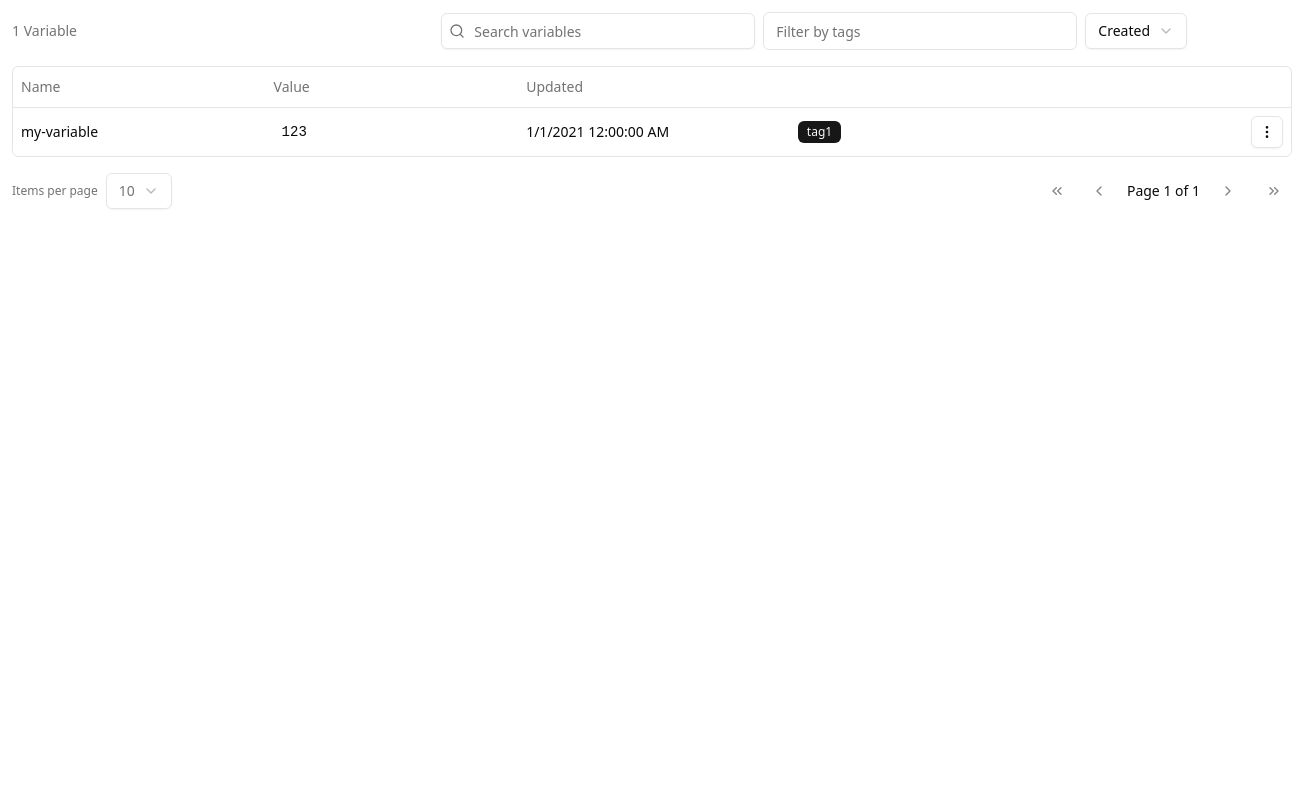
Test case: Variables page › Variables table › should allow a variable to be deleted
Click the 1st button: (1267, 132) [1251,116,1283,148]
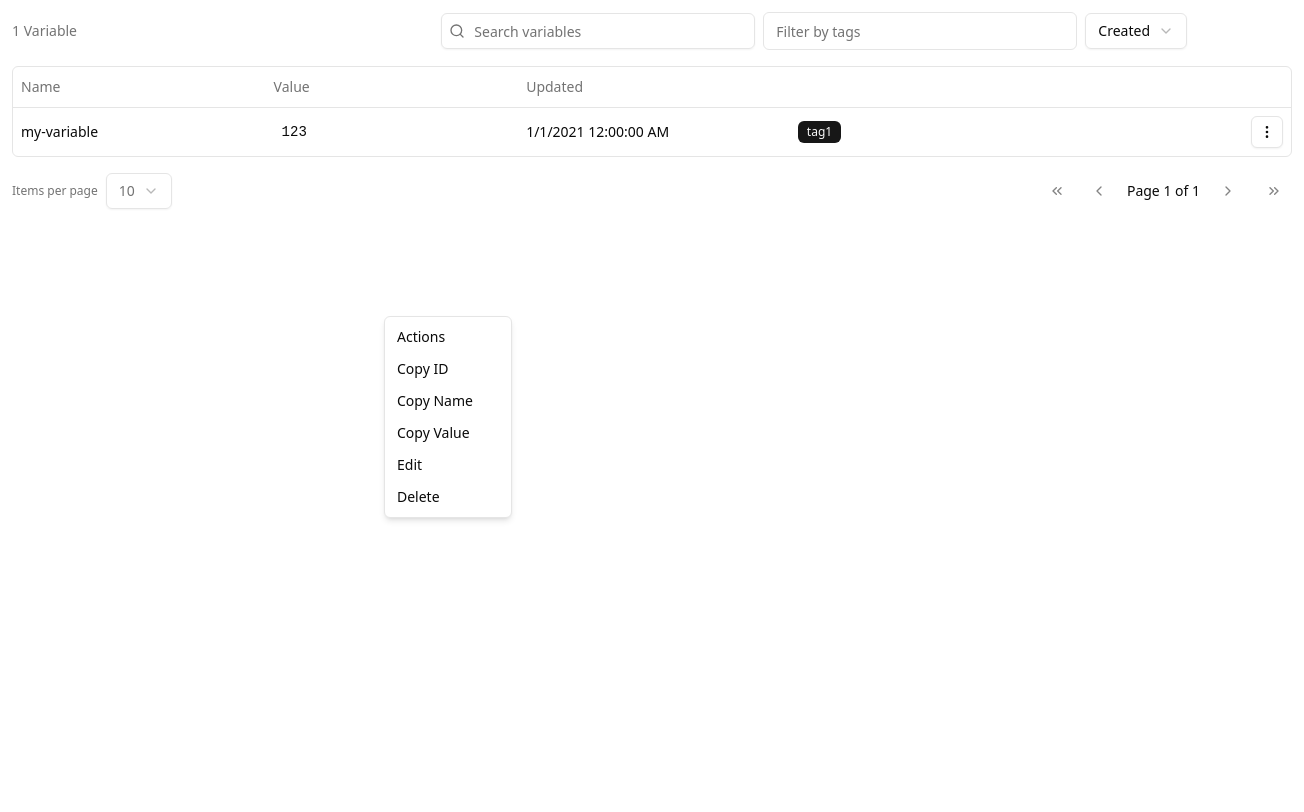
Click the menu item "Delete": (418, 496) [397,487,440,506]
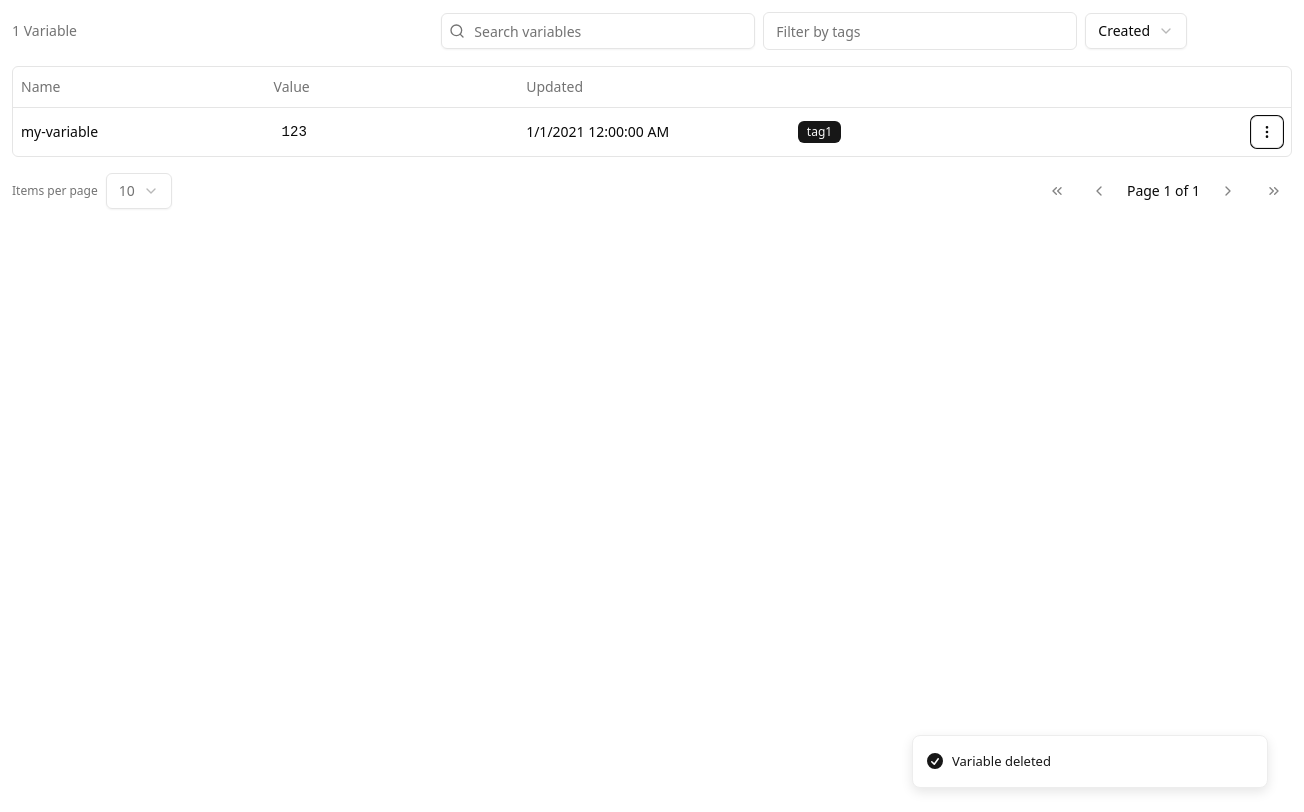
Now the text "Variable deleted" is shown, box [952,752,1051,771]
